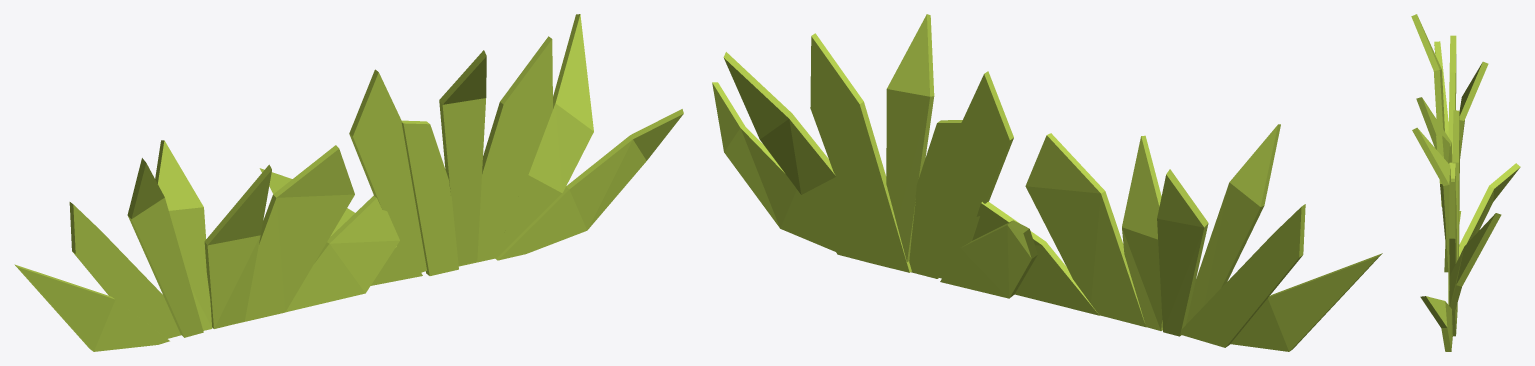
The model's file is Grass.obj.
The picture shows the model from 3 angles, left to right: view 1: azimuth 30°, elevation 25°; view 2: azimuth 150°, elevation 25°; view 3: azimuth 270°, elevation 25°; orthographic projection. The views are drawn at different scales.
Visible parts, largest first — view 1: Grass_Golf_no_trex.005; view 2: Grass_Golf_no_trex.005; view 3: Grass_Golf_no_trex.005.
Boxes of the visible parts, box(x1,y1,x2,y2) form: Grass_Golf_no_trex.005: box(14, 14, 683, 351); Grass_Golf_no_trex.005: box(712, 14, 1382, 351); Grass_Golf_no_trex.005: box(1411, 14, 1520, 351).
Size of the model in its own units: 0.0196 by 0.00661 by 0.00354.
